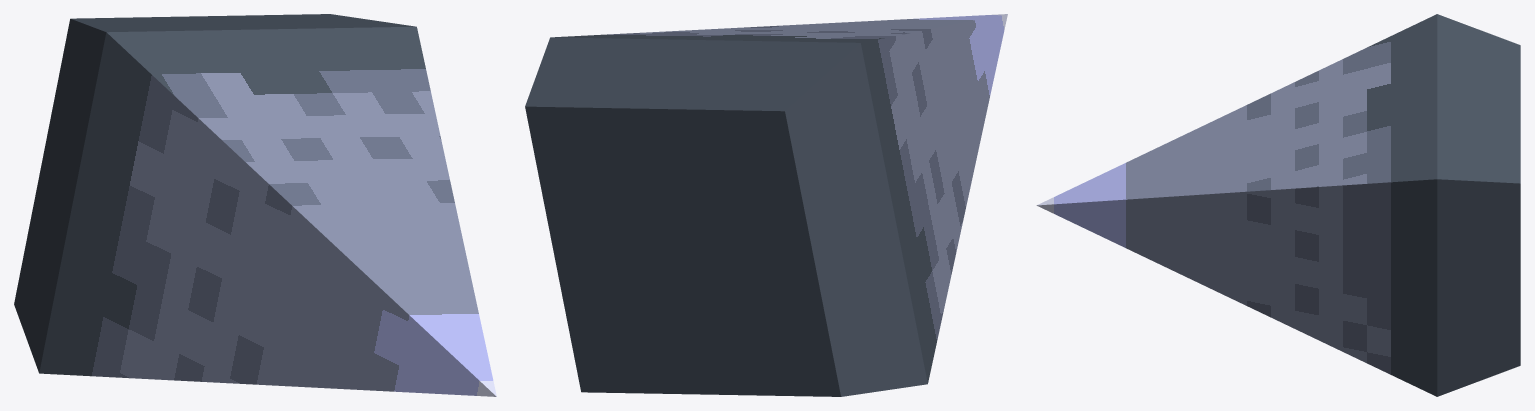
The model's file is spike.glb.
The picture shows the model from 3 angles, left to right: view 1: azimuth 30°, elevation 25°; view 2: azimuth 150°, elevation 25°; view 3: azimuth 270°, elevation 25°; orthographic projection. The views are drawn at different scales.
Parts seen in each view (by area): view 1: Cube.010; view 2: Cube.010; view 3: Cube.010.
Boxes of the visible parts, x1,y1,x2,y2 form: Cube.010: (14,14,496,396); Cube.010: (525,14,1007,396); Cube.010: (1036,14,1520,396).
Bounding box in the file's own units: 2.19 × 2.19 × 3.26.
1 material, 1 textured.
